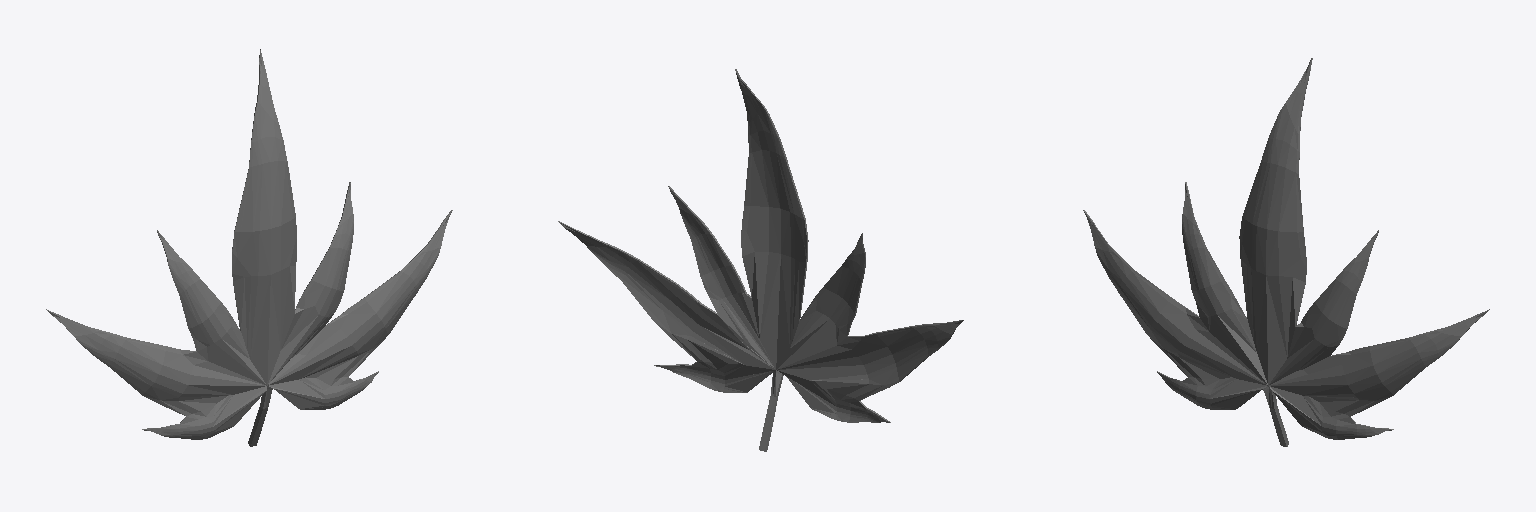
File: maple.obj
3 views of the same model, side by side, from view 1: azimuth 30°, elevation 25°; view 2: azimuth 150°, elevation 25°; view 3: azimuth 330°, elevation 25° (orthographic).
Visible parts, largest first — view 1: maple:planarTrimmedSurface8 maple:polySurface2 maple:polySurface; view 2: maple:planarTrimmedSurface8 maple:polySurface2 maple:polySurface; view 3: maple:planarTrimmedSurface8 maple:polySurface2 maple:polySurface.
Part boxes in pixels (left/top/right/bottom): maple:planarTrimmedSurface8 maple:polySurface2 maple:polySurface: left=46, top=49, right=452, bottom=446; maple:planarTrimmedSurface8 maple:polySurface2 maple:polySurface: left=558, top=69, right=963, bottom=451; maple:planarTrimmedSurface8 maple:polySurface2 maple:polySurface: left=1083, top=58, right=1489, bottom=446.
Size of the model in its own units: 22.18 by 20.09 by 2.71.